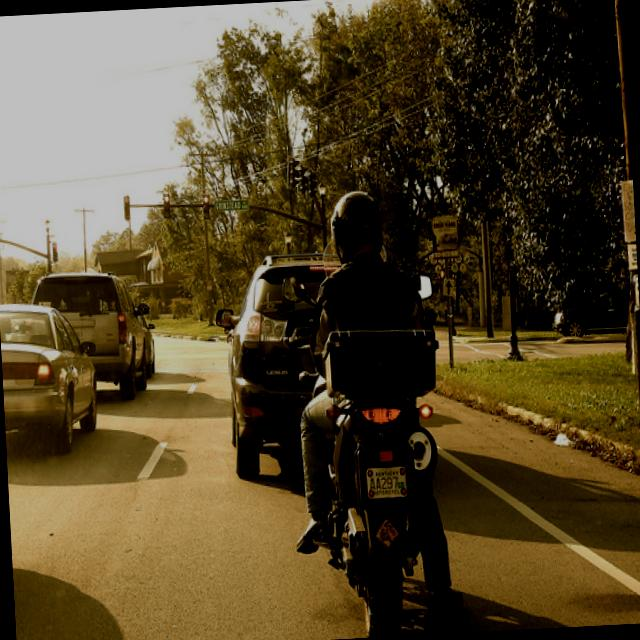Vehicle: (282, 268, 452, 640), (222, 256, 354, 479), (28, 268, 155, 408), (0, 297, 104, 456)
